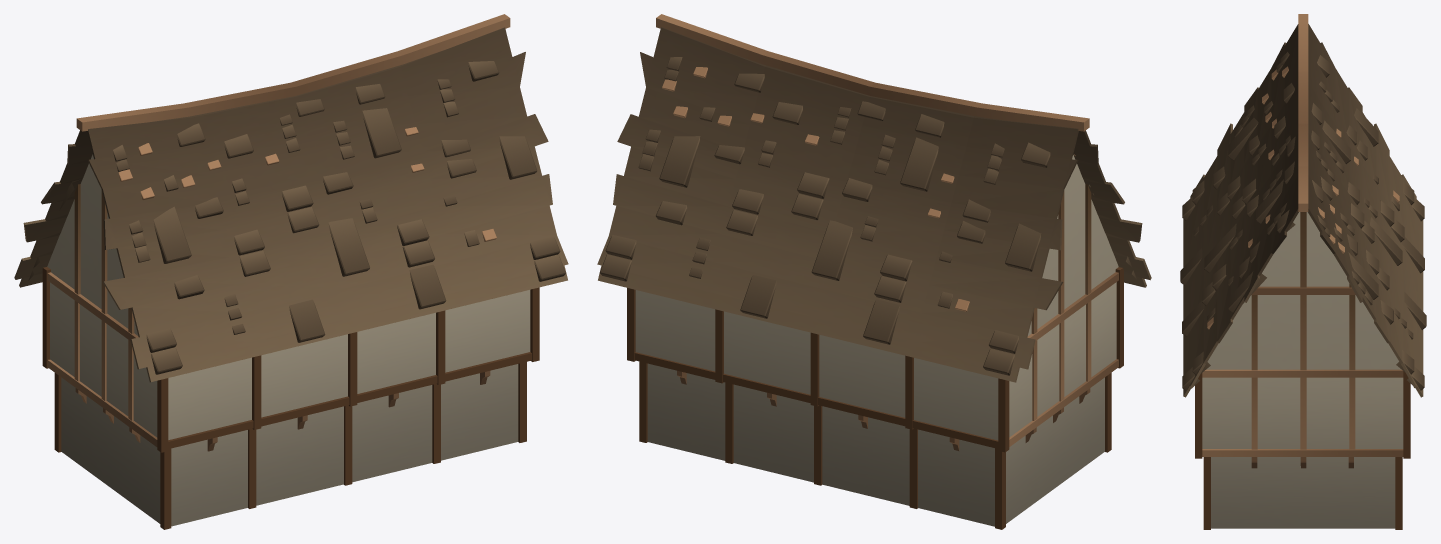
The model's file is ZLP_Build_A_9.FBX.
The picture shows the model from 3 angles, left to right: view 1: azimuth 30°, elevation 25°; view 2: azimuth 150°, elevation 25°; view 3: azimuth 270°, elevation 25°; orthographic projection. The views are drawn at different scales.
Visible parts, largest first — view 1: ZLP_Build_A_9; view 2: ZLP_Build_A_9; view 3: ZLP_Build_A_9.
Part boxes in pixels (x1,y1,x2,y2): ZLP_Build_A_9: (14, 14, 568, 529); ZLP_Build_A_9: (597, 14, 1151, 529); ZLP_Build_A_9: (1180, 14, 1426, 529).
Size of the model in its own units: 1225 by 974 by 635.
